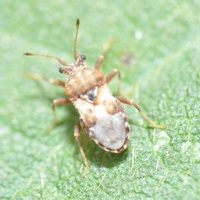insect: (23, 19, 166, 166)
